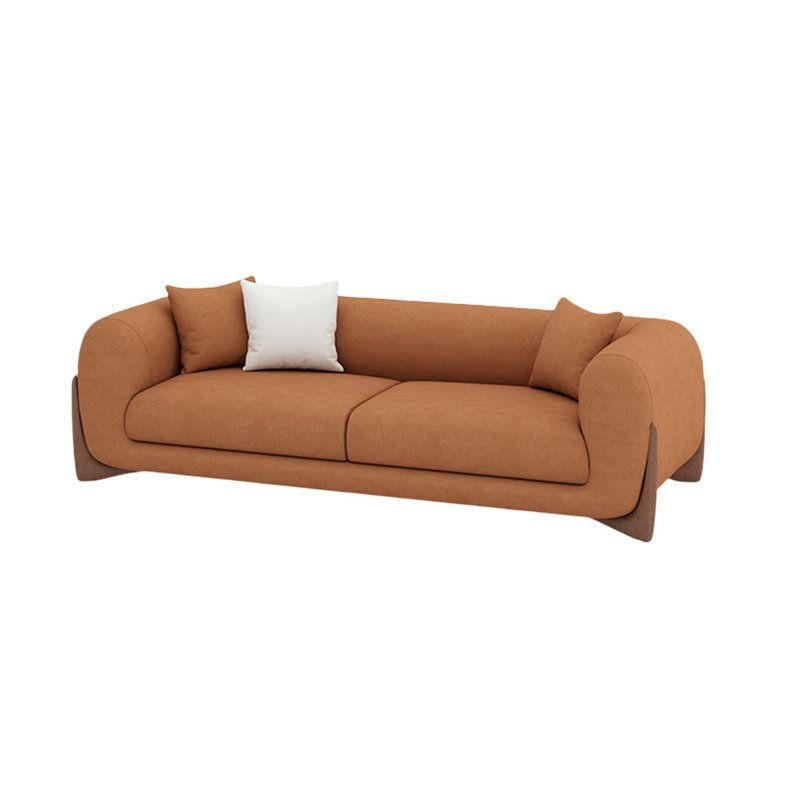3seatersofa: (73, 276, 702, 540)
backrest: (336, 297, 551, 385), (615, 317, 639, 337)
base: (120, 445, 594, 513)
leftarmrest: (576, 319, 707, 516)
leg: (597, 424, 658, 541), (72, 378, 125, 479), (671, 435, 703, 480)
pillow: (168, 277, 342, 371), (529, 298, 621, 398)
rightarmrest: (79, 300, 179, 466)
seat: (123, 369, 587, 484)
